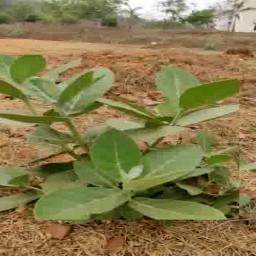CALOTROPIS: (0, 55, 240, 220)
